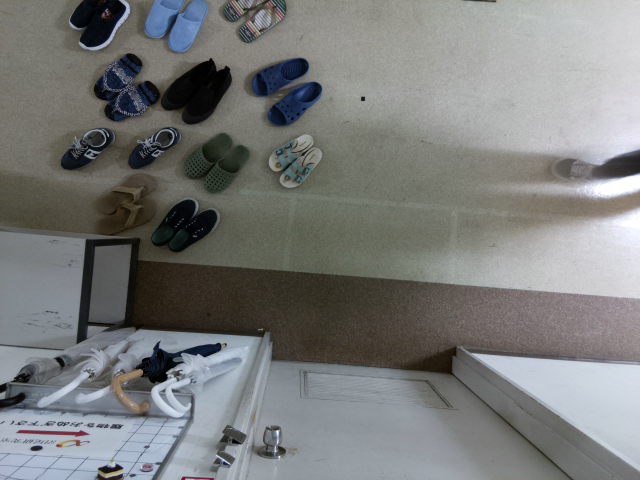Copy of Copy of Copy of Copy of Copy of Copy of Copy of shoes: (59, 127, 114, 170)
Copy of Copy of Copy of Copy of Copy of Copy of sandal: (97, 198, 156, 235)
Copy of Copy of Copy of Copy of Copy of Copy of shoes: (127, 126, 179, 169)
Copy of Copy of Copy of Copy of Copy of sandal: (99, 172, 156, 214)
Copy of Copy of Copy of Copy of Copy of shoes: (151, 197, 199, 246)
Copy of Copy of Copy of Copy of Copy of slipper: (145, 1, 184, 38)
Copy of Copy of Copy of Copy of sandal: (278, 146, 321, 188)
Copy of Copy of Copy of Copy of shoes: (168, 207, 220, 252)
Copy of Copy of Copy of Copy of slipper: (168, 1, 208, 52)
Copy of Copy of Copy of sandal: (268, 134, 314, 172)
Copy of Copy of Copy of shoes: (69, 1, 107, 29)
Copy of Copy of Copy of slipper: (184, 132, 232, 179)
Copy of Copy of sandal: (104, 81, 159, 121)
Copy of Copy of shoes: (78, 1, 130, 50)
Copy of Copy of slipper: (203, 144, 249, 193)
Copy of sandal: (93, 52, 142, 100)
Copy of shoes: (161, 58, 216, 110)
Copy of slipper: (252, 57, 309, 96)
sandal: (238, 1, 286, 42)
shoes: (182, 65, 232, 124)
slipper: (268, 81, 322, 126)
